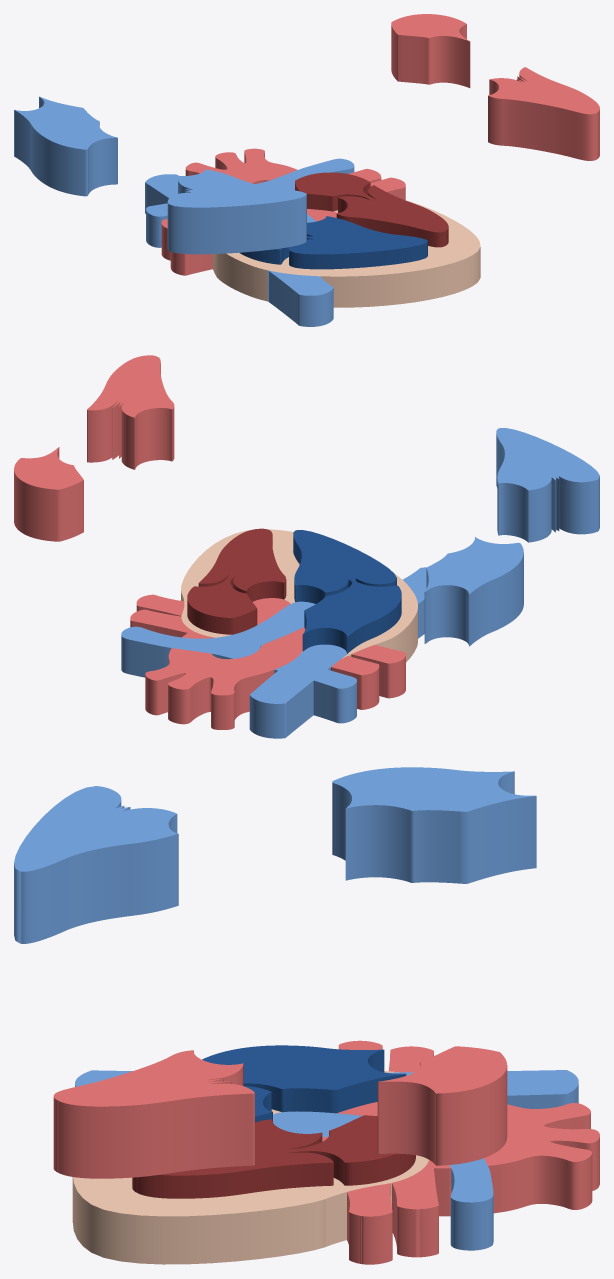
Rendered from corazon anatomico.fbx.
The picture shows the model from 3 angles, top to bottom: view 1: azimuth 30°, elevation 25°; view 2: azimuth 150°, elevation 25°; view 3: azimuth 270°, elevation 25°; orthographic projection. The views are drawn at different scales.
Parts seen in each view (by area): view 1: removible 2.001, Curve.007, removible 4.001, removible 1.001, removible 3.001, removible 2, Curve, removible 4, Curve.017, removible 3, Curve.009, Curve.004 (+2 smaller); view 2: removible 2.001, Curve.017, removible 1.001, removible 4.001, Curve.009, Curve, removible 3.001, removible 1, removible 2, Curve.007, removible 4, removible 3 (+2 smaller); view 3: removible 1.001, removible 4.001, Curve.007, removible 2.001, removible 3.001, Curve.017, removible 1, removible 4, Curve.009, Curve.002, removible 3, Curve.004 (+1 smaller).
Part boxes in pixels (<box>): removible 2.001: <box>167,169,306,254</box>; Curve.007: <box>213,200,480,307</box>; removible 4.001: <box>488,67,599,160</box>; removible 1.001: <box>14,96,117,196</box>; removible 3.001: <box>391,14,470,87</box>; removible 2: <box>289,216,427,269</box>; Curve: <box>145,174,333,326</box>; removible 4: <box>336,185,448,247</box>; Curve.017: <box>185,148,338,221</box>; removible 3: <box>295,172,373,211</box>; Curve.009: <box>146,158,354,247</box>; Curve.004: <box>170,177,405,275</box>; removible 2.001: <box>496,428,599,542</box>; Curve.017: <box>145,598,305,729</box>; removible 1.001: <box>424,537,523,646</box>; removible 4.001: <box>87,355,174,469</box>; Curve.009: <box>121,601,356,723</box>; Curve: <box>249,567,426,738</box>; removible 3.001: <box>14,447,83,541</box>; removible 1: <box>302,579,401,653</box>; removible 2: <box>293,530,396,603</box>; Curve.007: <box>181,529,417,662</box>; removible 4: <box>198,528,286,601</box>; removible 3: <box>187,575,257,634</box>; removible 1.001: <box>332,767,536,883</box>; removible 4.001: <box>53,1050,254,1178</box>; Curve.007: <box>72,1071,428,1264</box>; removible 2.001: <box>14,786,178,943</box>; removible 3.001: <box>377,1046,507,1165</box>; Curve.017: <box>322,1102,599,1216</box>; removible 1: <box>202,1045,406,1113</box>; removible 4: <box>132,1119,333,1198</box>; Curve.009: <box>273,1111,493,1250</box>; Curve.002: <box>388,1046,438,1257</box>; removible 3: <box>287,1115,415,1185</box>; Curve.004: <box>338,1040,392,1264</box>.
Bounding box in the file's own units: 327 × 106 × 239.
